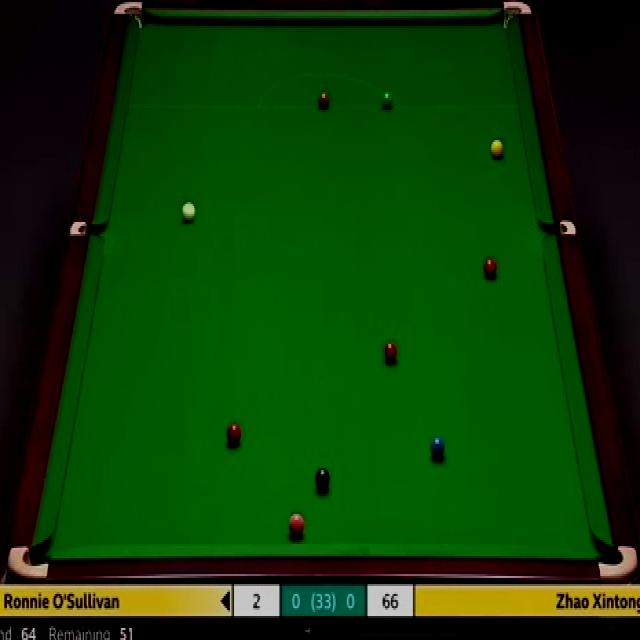pocket: (597, 542, 640, 584), (7, 545, 49, 580), (116, 2, 150, 36), (500, 0, 531, 32), (539, 218, 577, 237), (67, 220, 105, 235)
